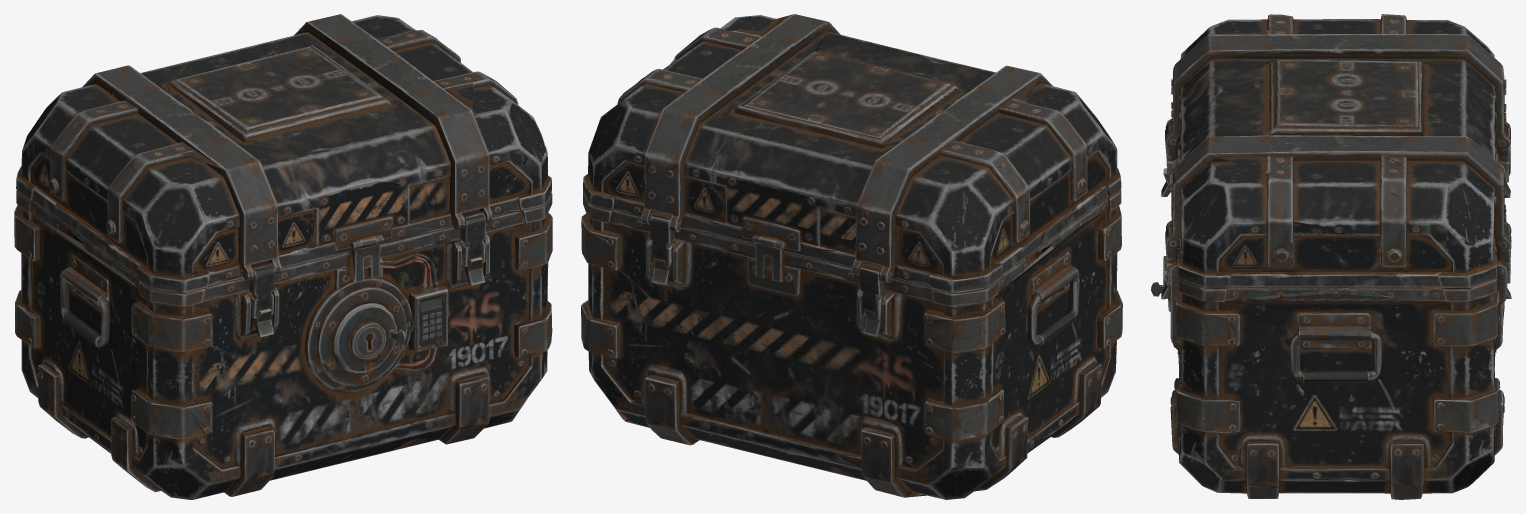
Rendered from truhe.glb.
3 views of the same model, side by side, from view 1: azimuth 30°, elevation 25°; view 2: azimuth 150°, elevation 25°; view 3: azimuth 270°, elevation 25° (orthographic).
Visible parts, largest first — view 1: output_unwrapped; view 2: output_unwrapped; view 3: output_unwrapped.
Part boxes in pixels (box(x1,y1,x2,y2)): output_unwrapped: box(14, 14, 552, 499); output_unwrapped: box(581, 14, 1122, 499); output_unwrapped: box(1151, 14, 1511, 499).
Bounding box in the file's own units: 1.9 × 1.45 × 1.46.
1 material, 1 textured.
